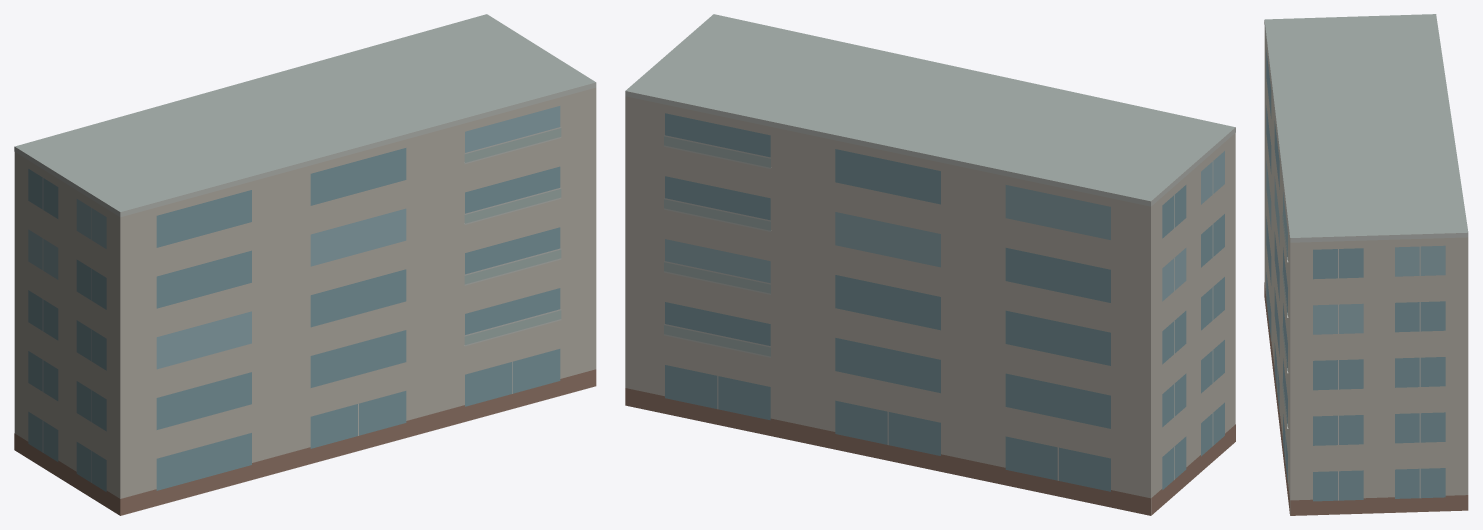
File: survey-upis-32653487.glb
3 renders of one model, left to right at view 1: azimuth 30°, elevation 25°; view 2: azimuth 150°, elevation 25°; view 3: azimuth 270°, elevation 25°, orthographic. The views are drawn at different scales.
Parts seen in each view (by area): view 1: survey-upis-32653487.tmp; view 2: survey-upis-32653487.tmp; view 3: survey-upis-32653487.tmp.
Part boxes in pixels (left/top/right/bottom): survey-upis-32653487.tmp: left=14, top=14, right=596, bottom=515; survey-upis-32653487.tmp: left=625, top=14, right=1235, bottom=515; survey-upis-32653487.tmp: left=1264, top=14, right=1468, bottom=515.
Size of the model in its own units: 25.1 by 14.5 by 9.66.
